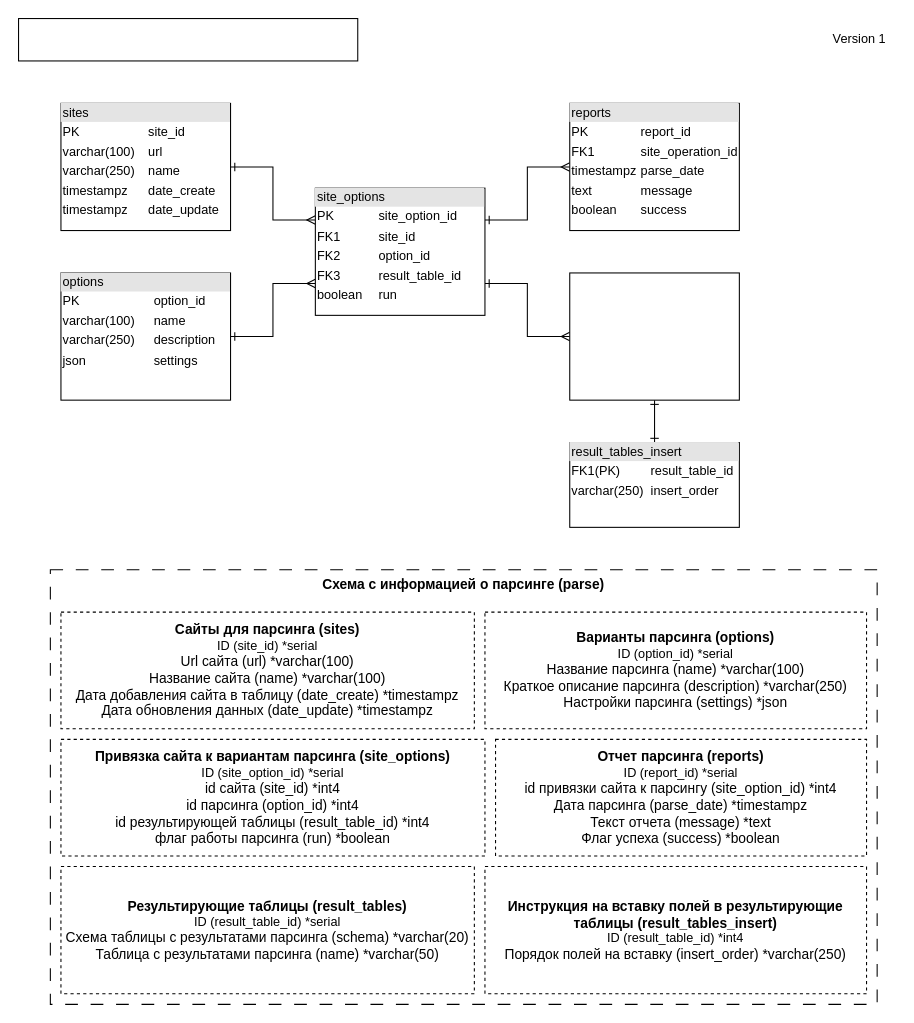
Some shapes in this 914 by 1023 pixel diagram are drawn without their labels. The centre of each missing label's shape, as x and y in pixels:
"Parsers Database Structure (PostgreSQL)" belongs at point (187, 39).
"result_tables PK result_table_id varchar(20) schema varchar(50) name" belongs at point (654, 336).
